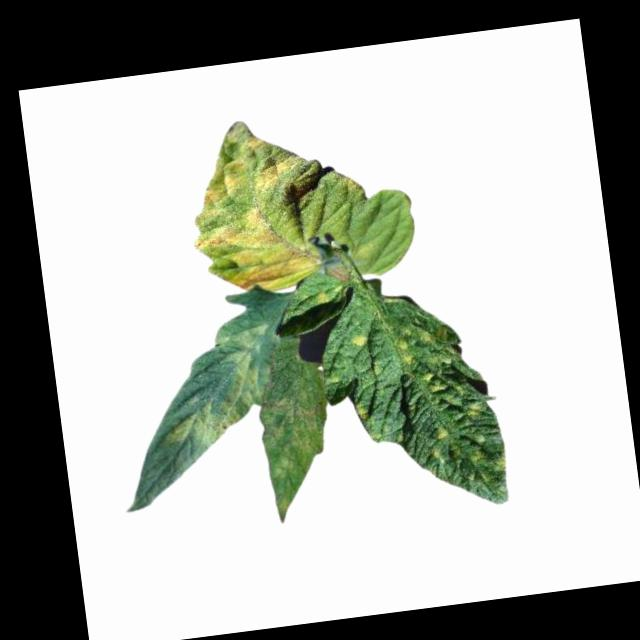Leaf_Mold: (177, 104, 375, 300), (393, 312, 510, 515), (155, 322, 281, 453), (258, 388, 340, 523), (349, 331, 367, 350), (312, 291, 330, 307)
